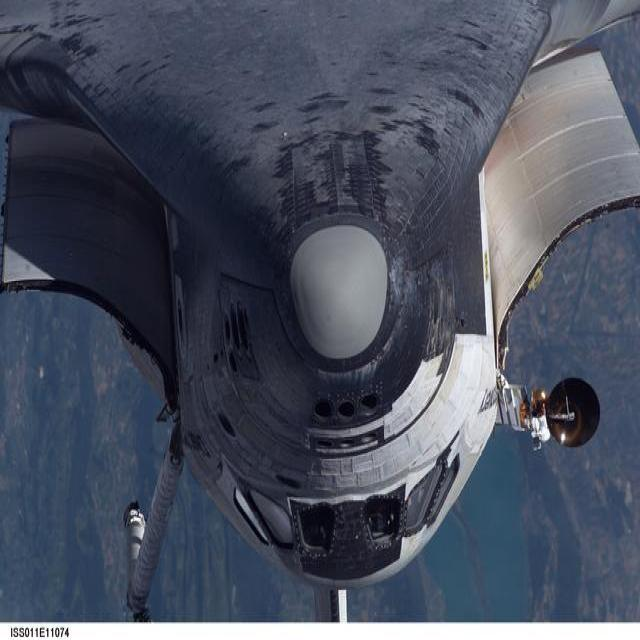medium_debris: (0, 2, 640, 620)
